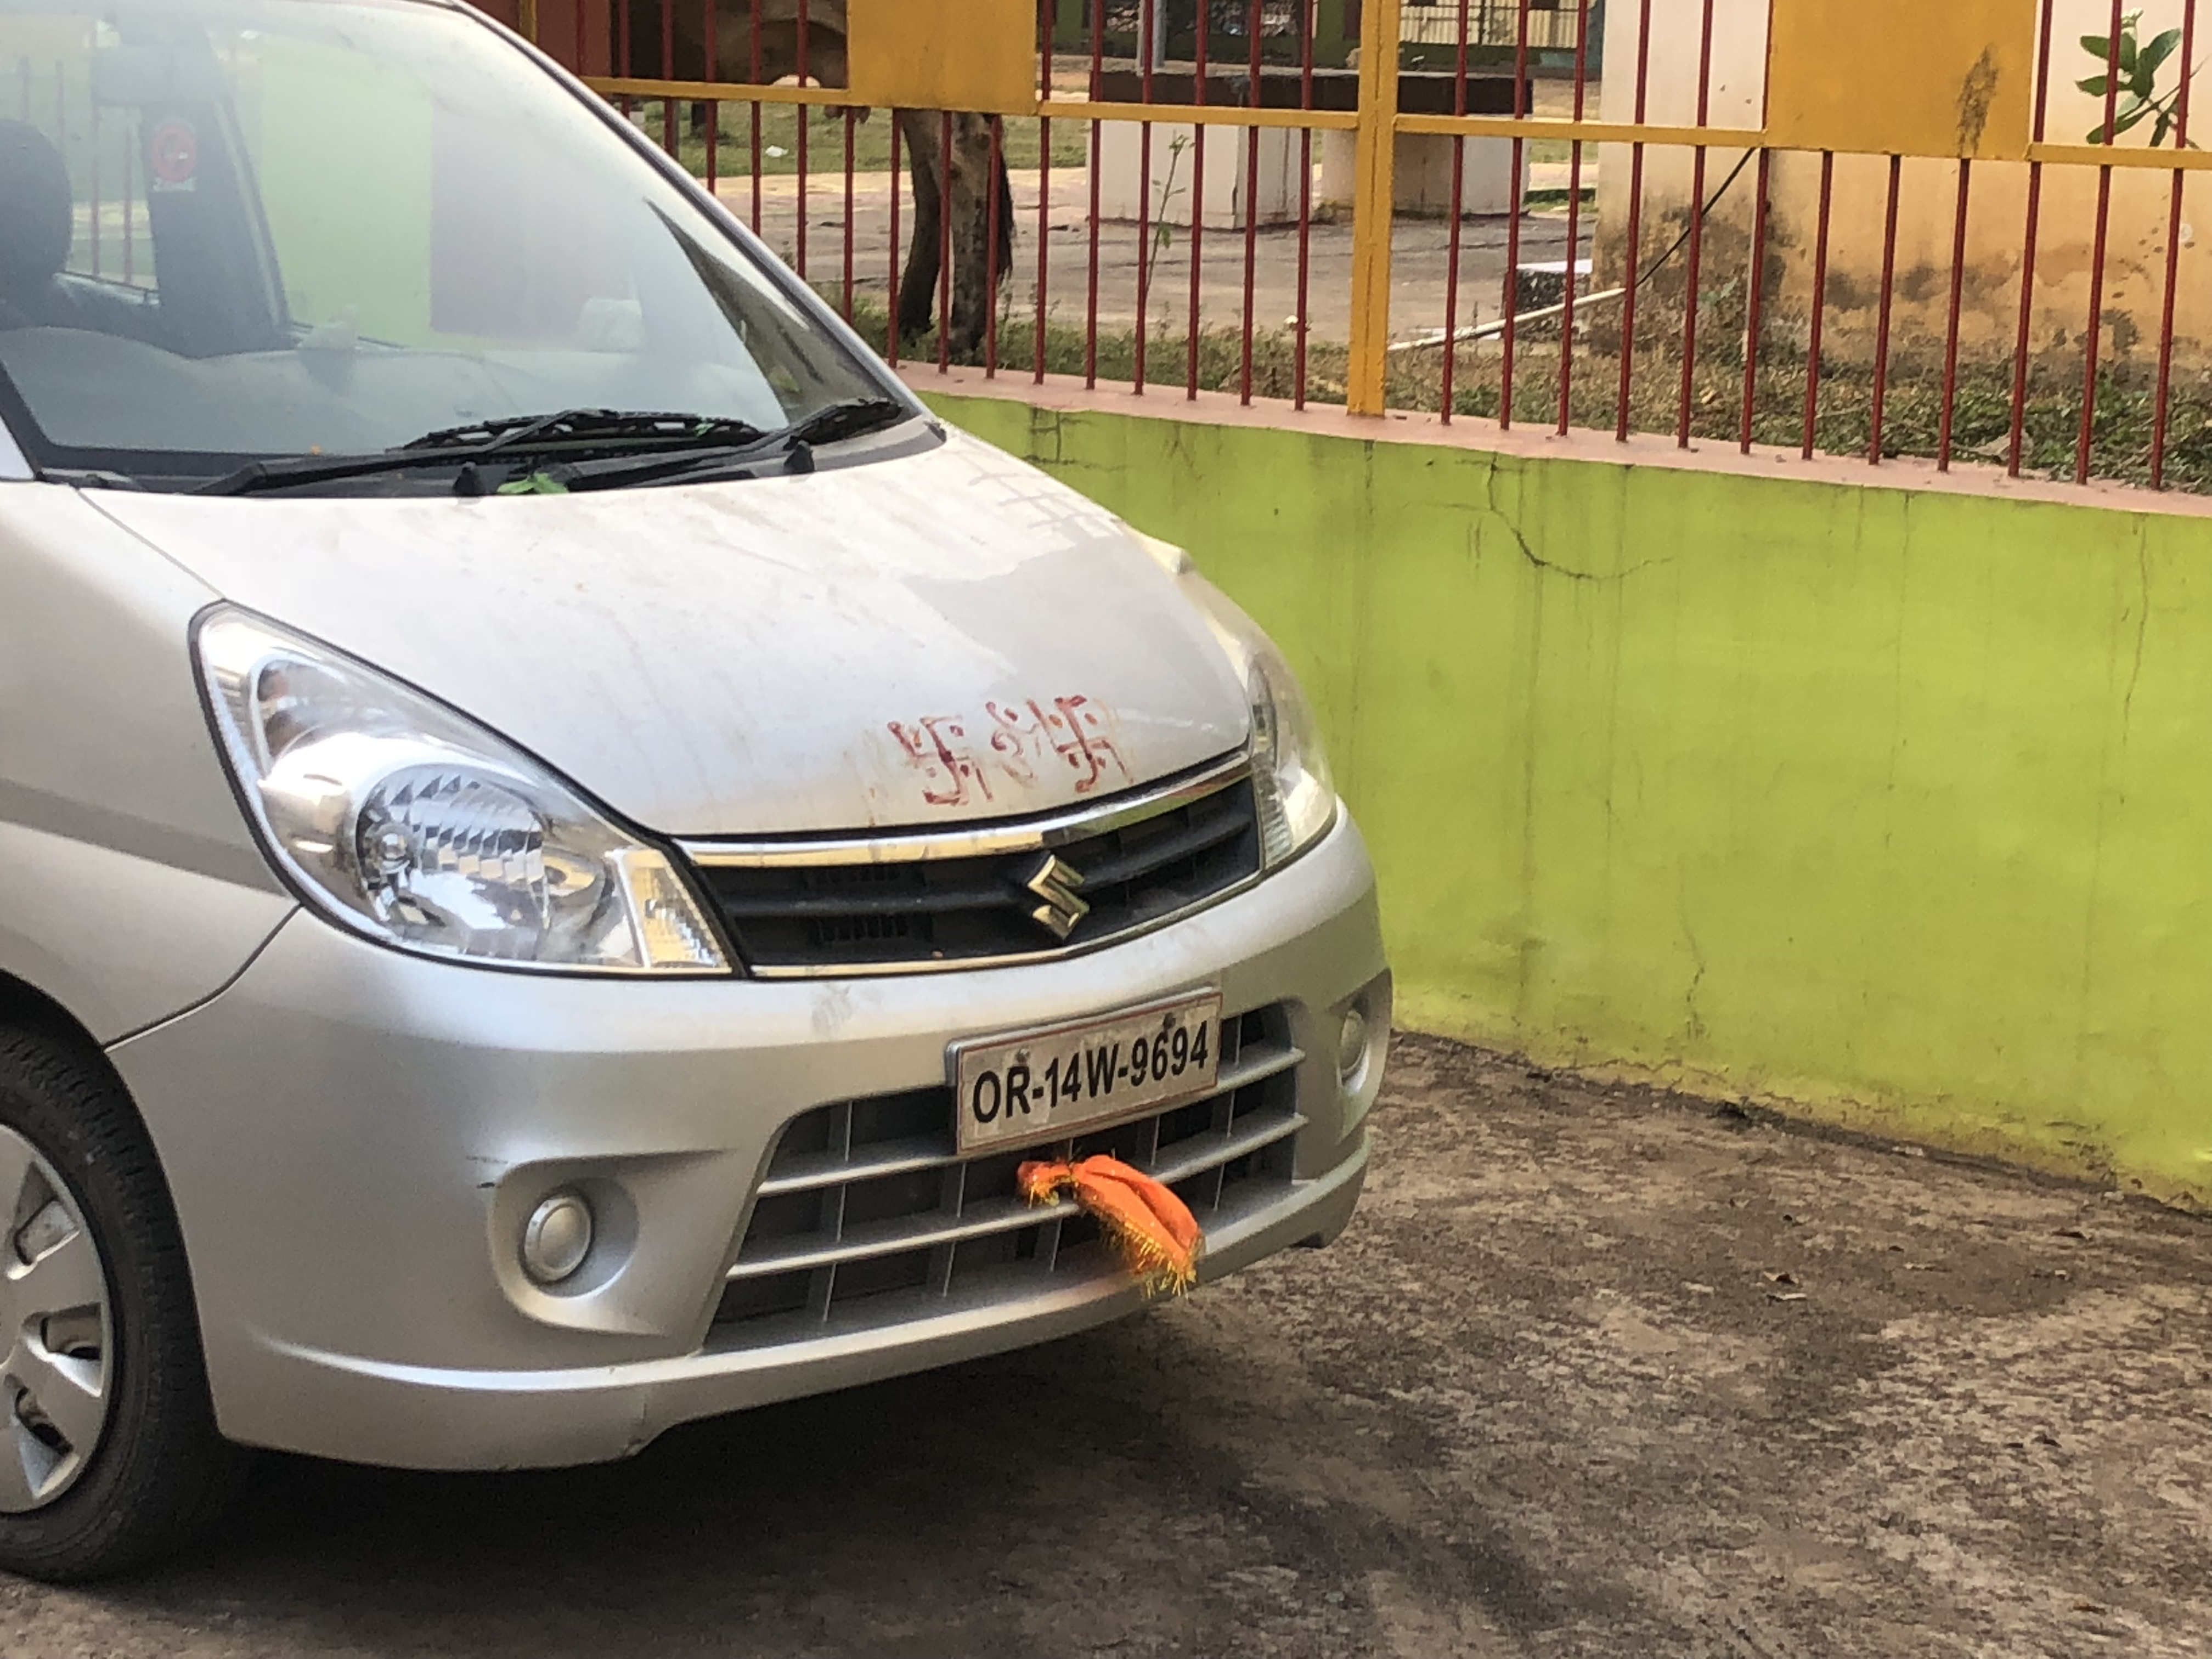licenseplate: (934, 984, 1238, 1150)
